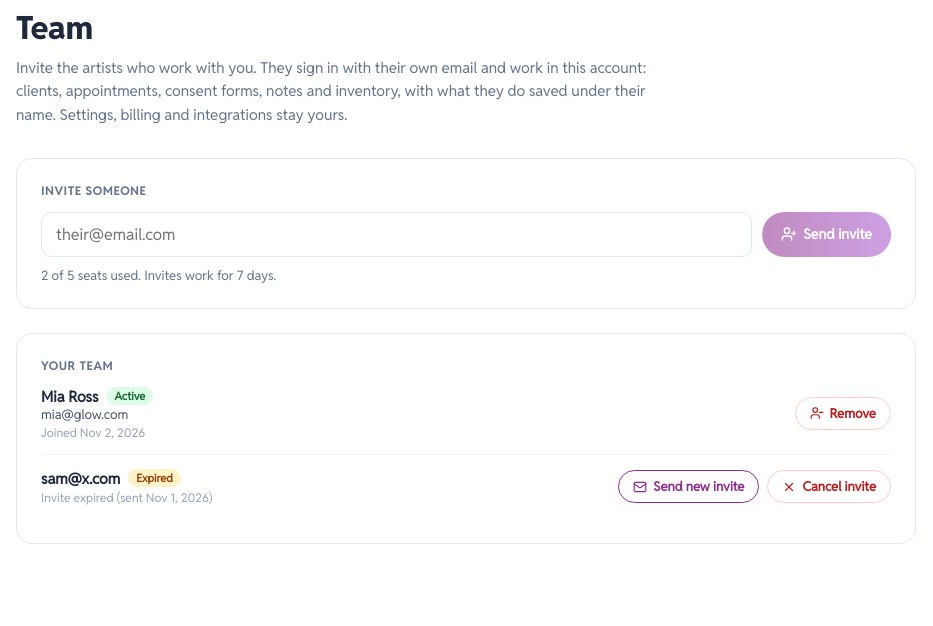
Test: Team page › invites someone and adds them to the list
The width and height of the screenshot is (933, 626).
Expected: the list is shown, [41, 387, 891, 519]
Type " New@X.com " into the field named "Email to invite" at [397, 234], box [41, 212, 752, 257]
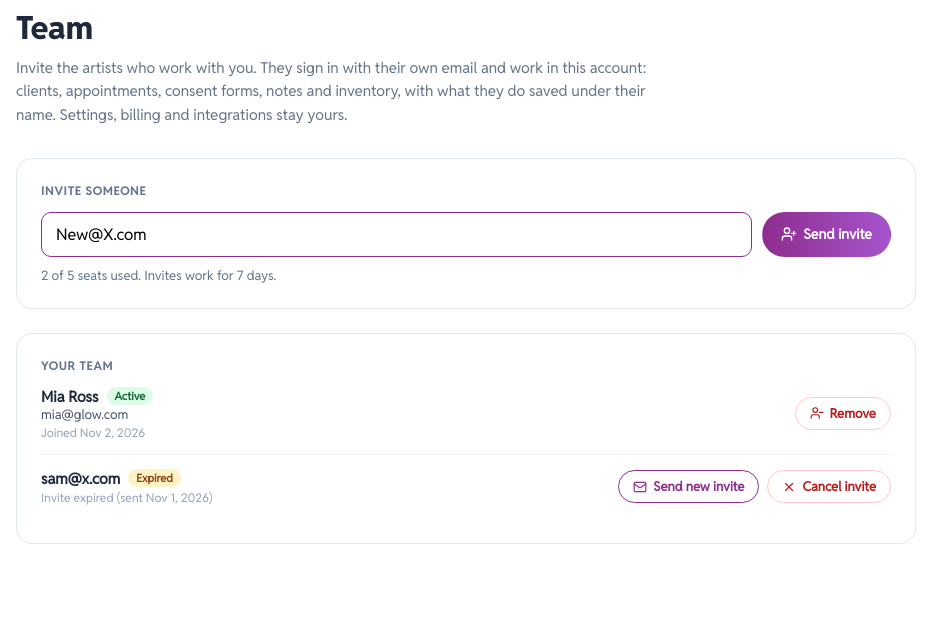
Click the button "Send invite" at [827, 234], box [762, 212, 891, 257]
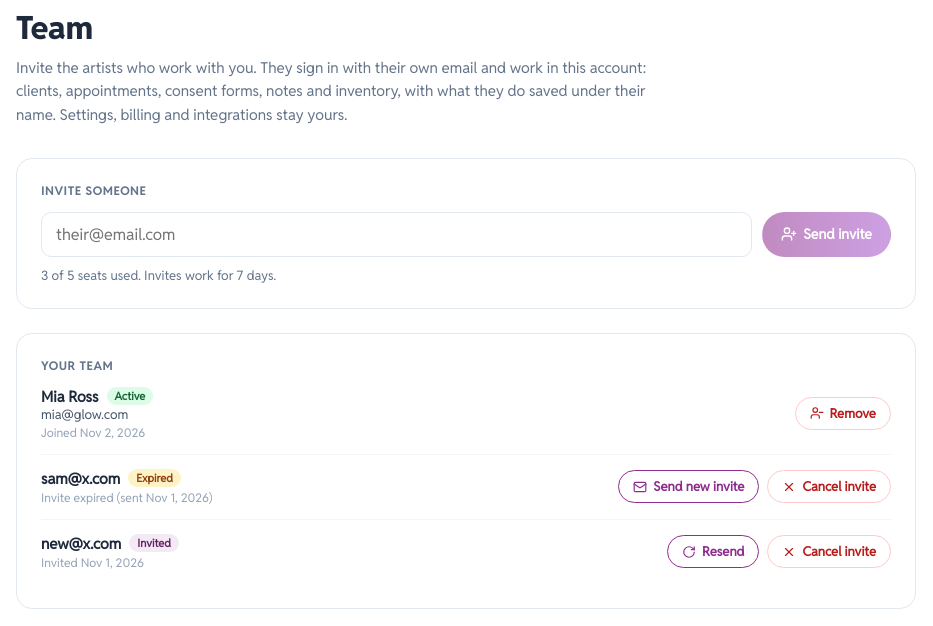
Now the text "new@x.com" is shown, box [41, 534, 121, 553]
Now the field named "Email to invite" is empty, box [41, 212, 752, 257]
